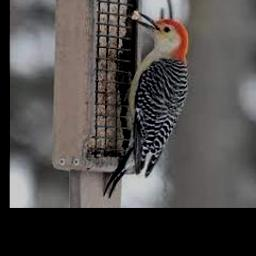Woodpecker: (103, 11, 188, 198)
